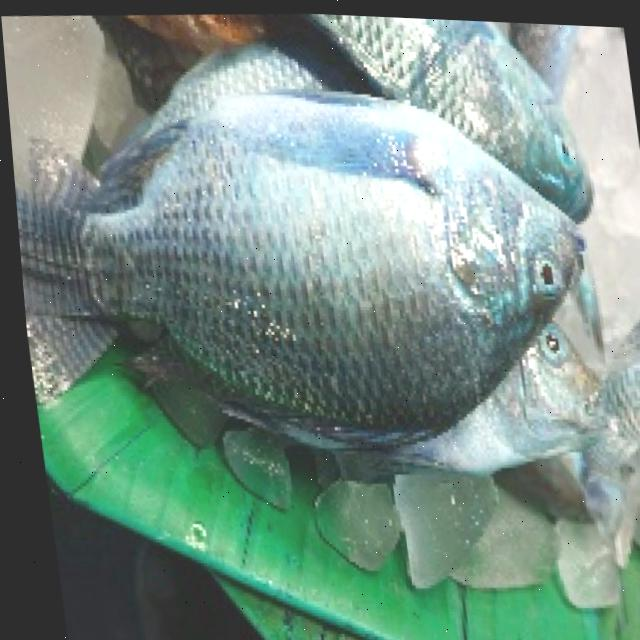Fresh: (199, 94, 604, 420)
